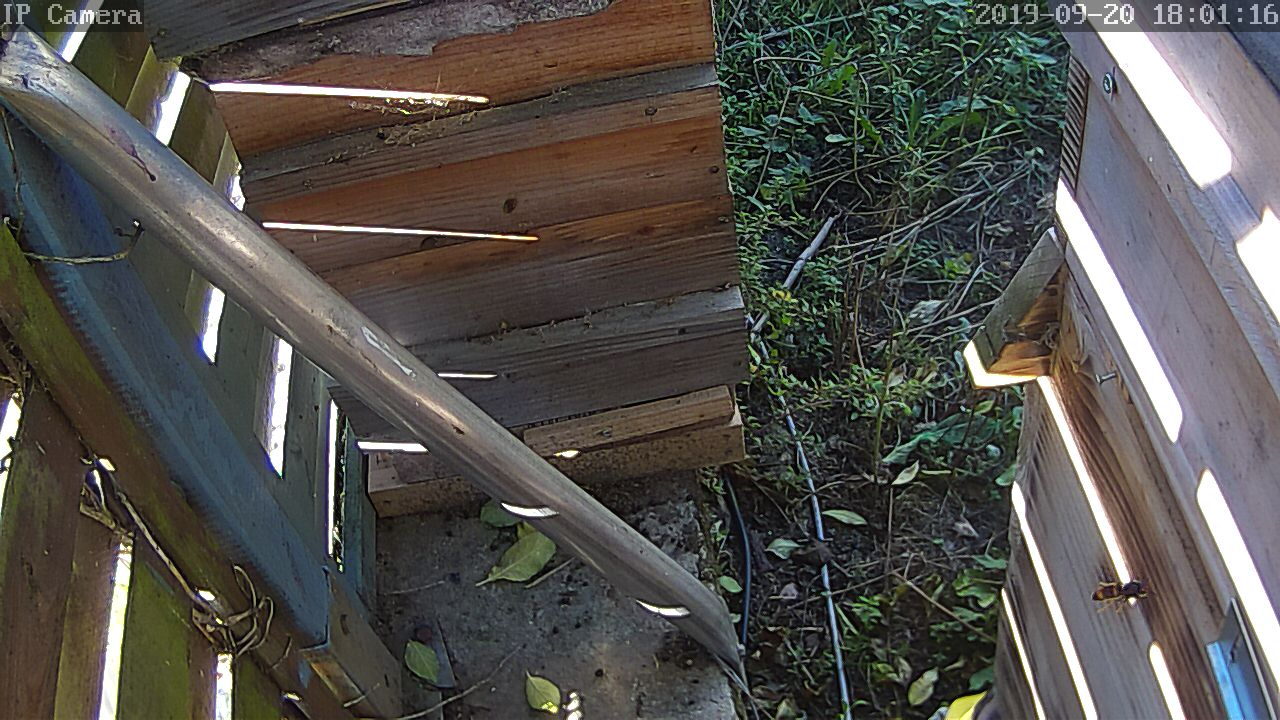hornet: (122, 0, 1240, 720), (507, 7, 1245, 642)
